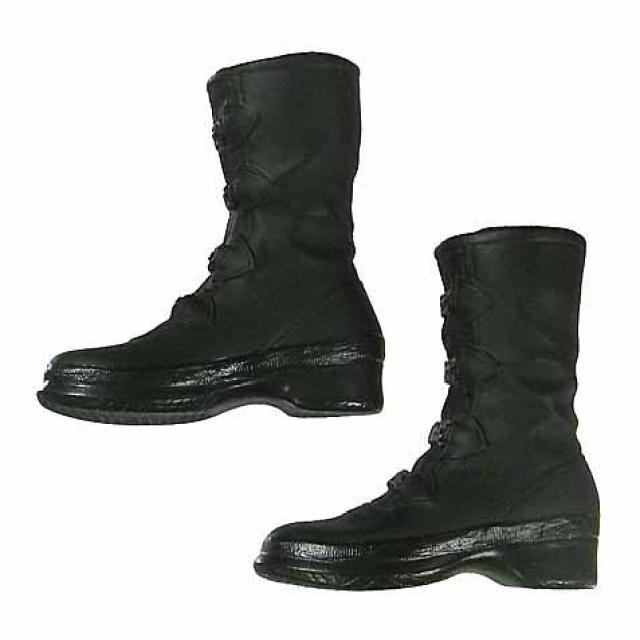boot: (244, 219, 612, 617), (32, 42, 402, 420)
